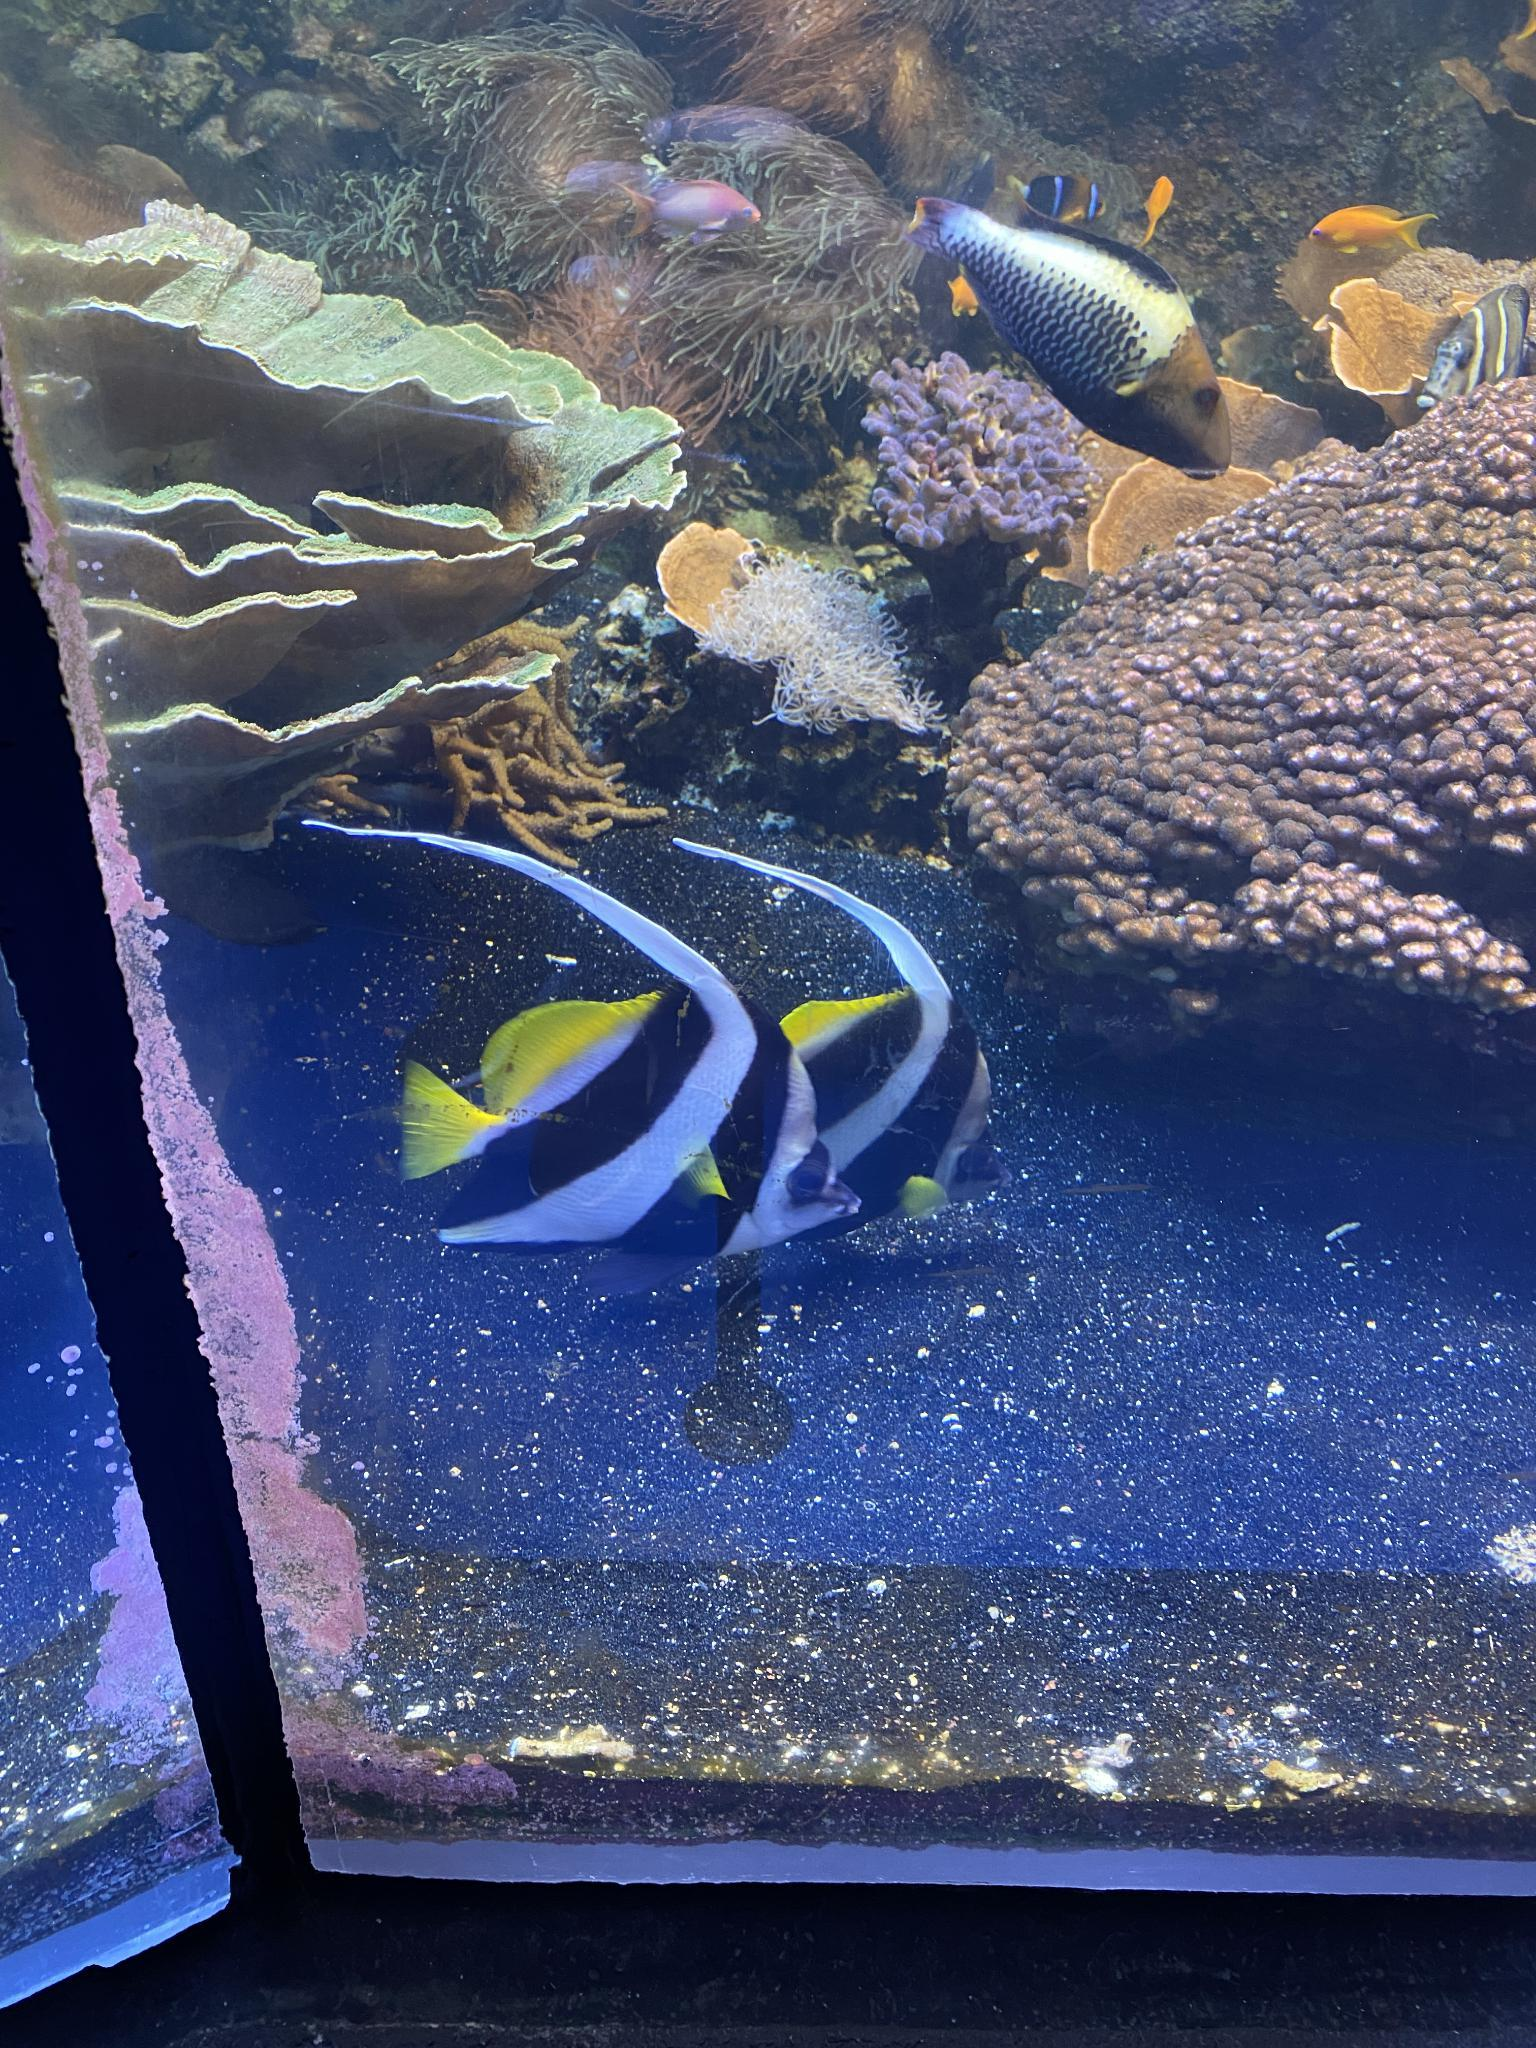fish: (400, 993, 866, 1266), (900, 190, 1236, 484), (668, 992, 997, 1229), (1417, 287, 1534, 398), (628, 176, 760, 234), (1309, 203, 1434, 255)
